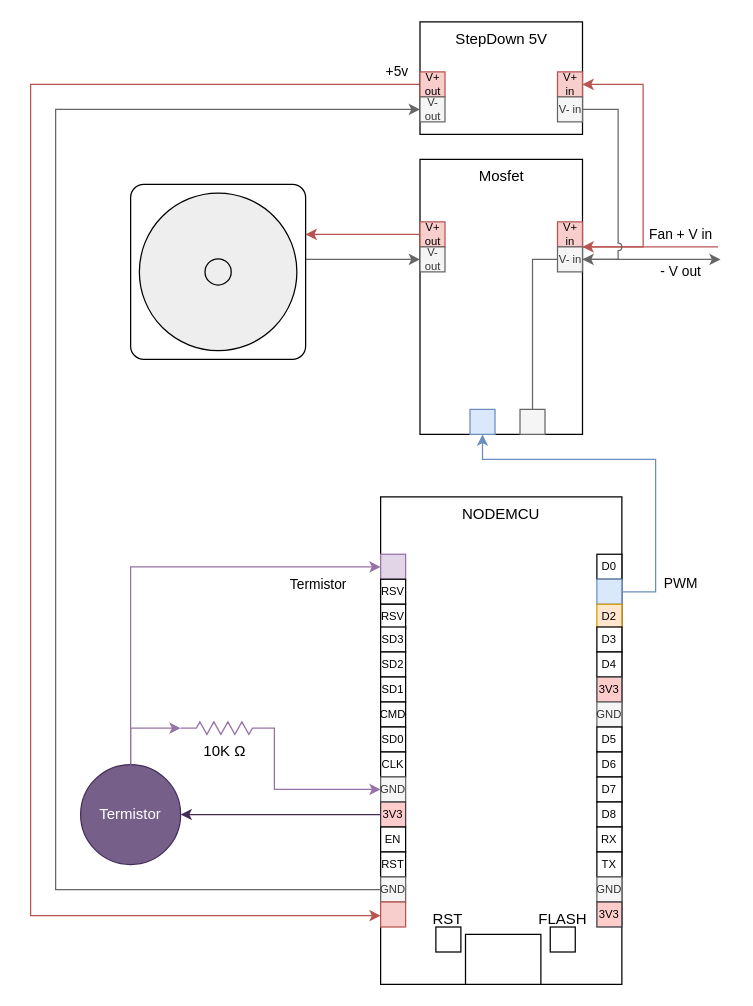
Image size: 753x1006. Some labels were removed from this diagram. The centre of each missing label's shape, as x and y in pixels:
"A0" belongs at pixel 392 566.
"COOLER" belongs at pixel 217 271.
"D1" belongs at pixel 609 591.
"S In" belongs at pixel 482 421.
"Sg" belongs at pixel 532 421.
"USB" belongs at pixel 502 958.
"Vin" belongs at pixel 392 914.
